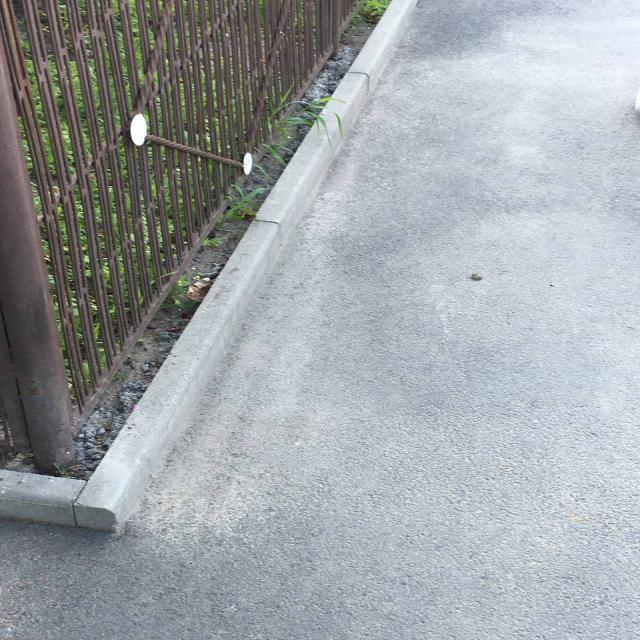bump: (95, 338, 203, 520), (173, 250, 261, 393), (0, 463, 149, 542), (234, 166, 312, 284)
